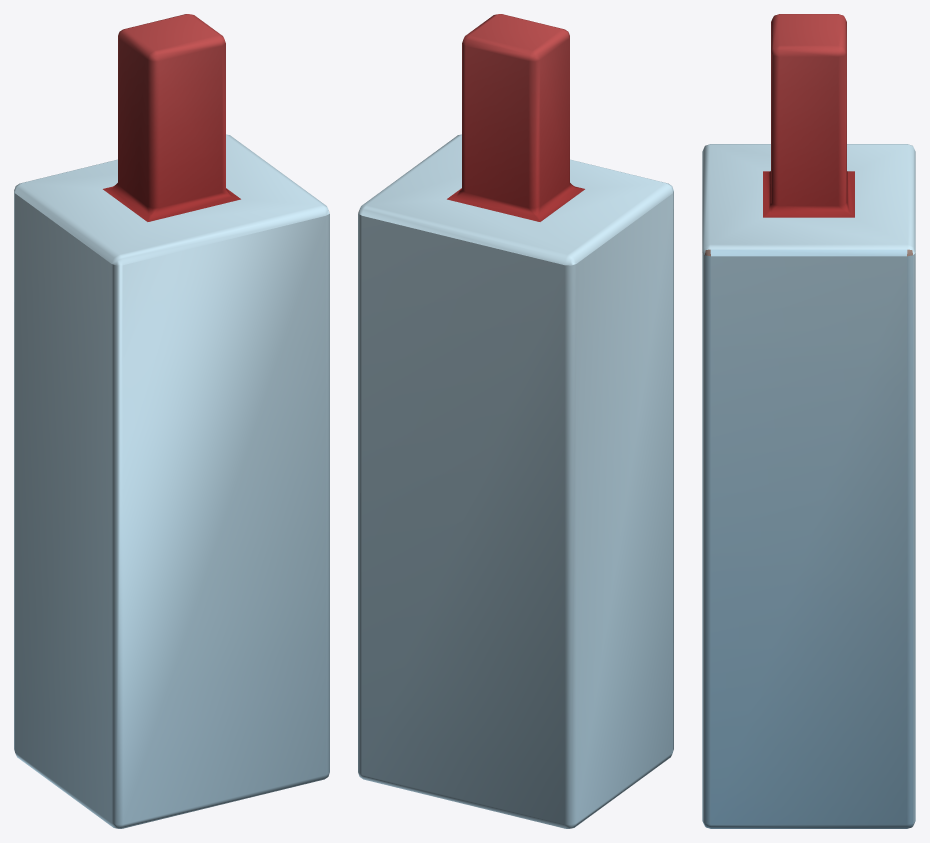
File: vodka.fbx
3 renders of one model, left to right at view 1: azimuth 30°, elevation 25°; view 2: azimuth 150°, elevation 25°; view 3: azimuth 270°, elevation 25°, orthographic.
Visible parts, largest first — view 1: vodka; view 2: vodka; view 3: vodka.
Boxes of the visible parts, x1,y1,x2,y2 form: vodka: [14, 14, 329, 828]; vodka: [358, 14, 673, 828]; vodka: [702, 14, 915, 828].
Size of the model in its own units: 0.0891 by 0.2884 by 0.0746.
Materials: 1 (1 with a texture image).
